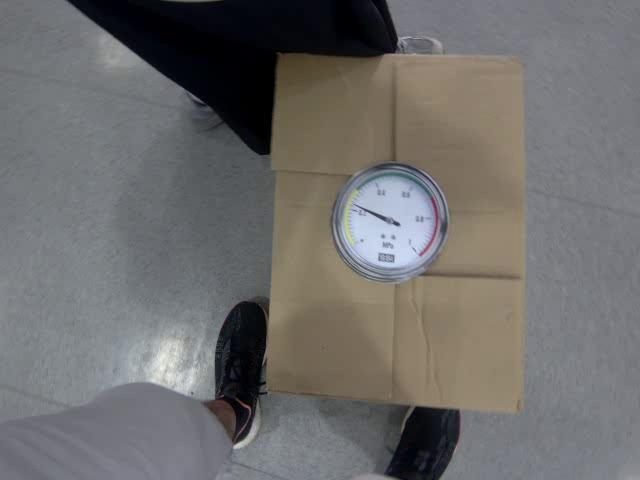Dashboard: (332, 162, 449, 282)
ssi: (376, 250, 395, 265)
